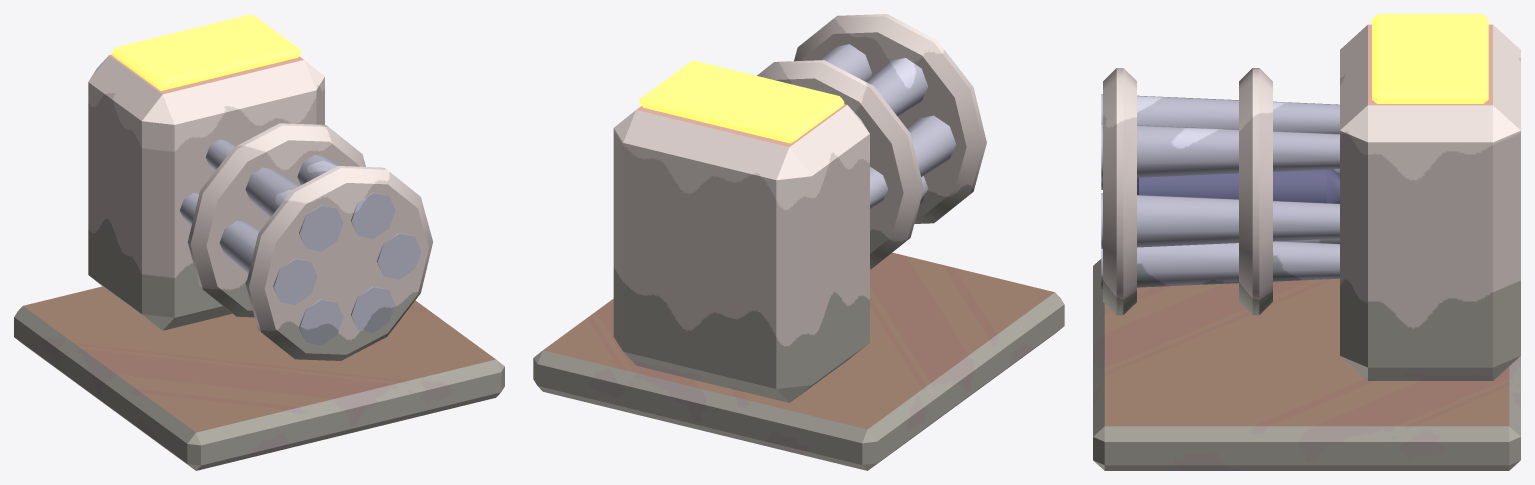
File: R4X_RapidFire_LOD1.glb
The picture shows the model from 3 angles, left to right: view 1: azimuth 30°, elevation 25°; view 2: azimuth 150°, elevation 25°; view 3: azimuth 270°, elevation 25°; orthographic projection. The views are drawn at different scales.
Parts seen in each view (by area): view 1: R4X_RapidFire_LOD1; view 2: R4X_RapidFire_LOD1; view 3: R4X_RapidFire_LOD1.
Boxes of the visible parts, x1,y1,x2,y2 form: R4X_RapidFire_LOD1: [14, 14, 504, 470]; R4X_RapidFire_LOD1: [533, 14, 1064, 470]; R4X_RapidFire_LOD1: [1093, 14, 1520, 470].
Bounding box in the file's own units: 0.52 × 0.4463 × 0.52.
5 materials, 4 textured.
